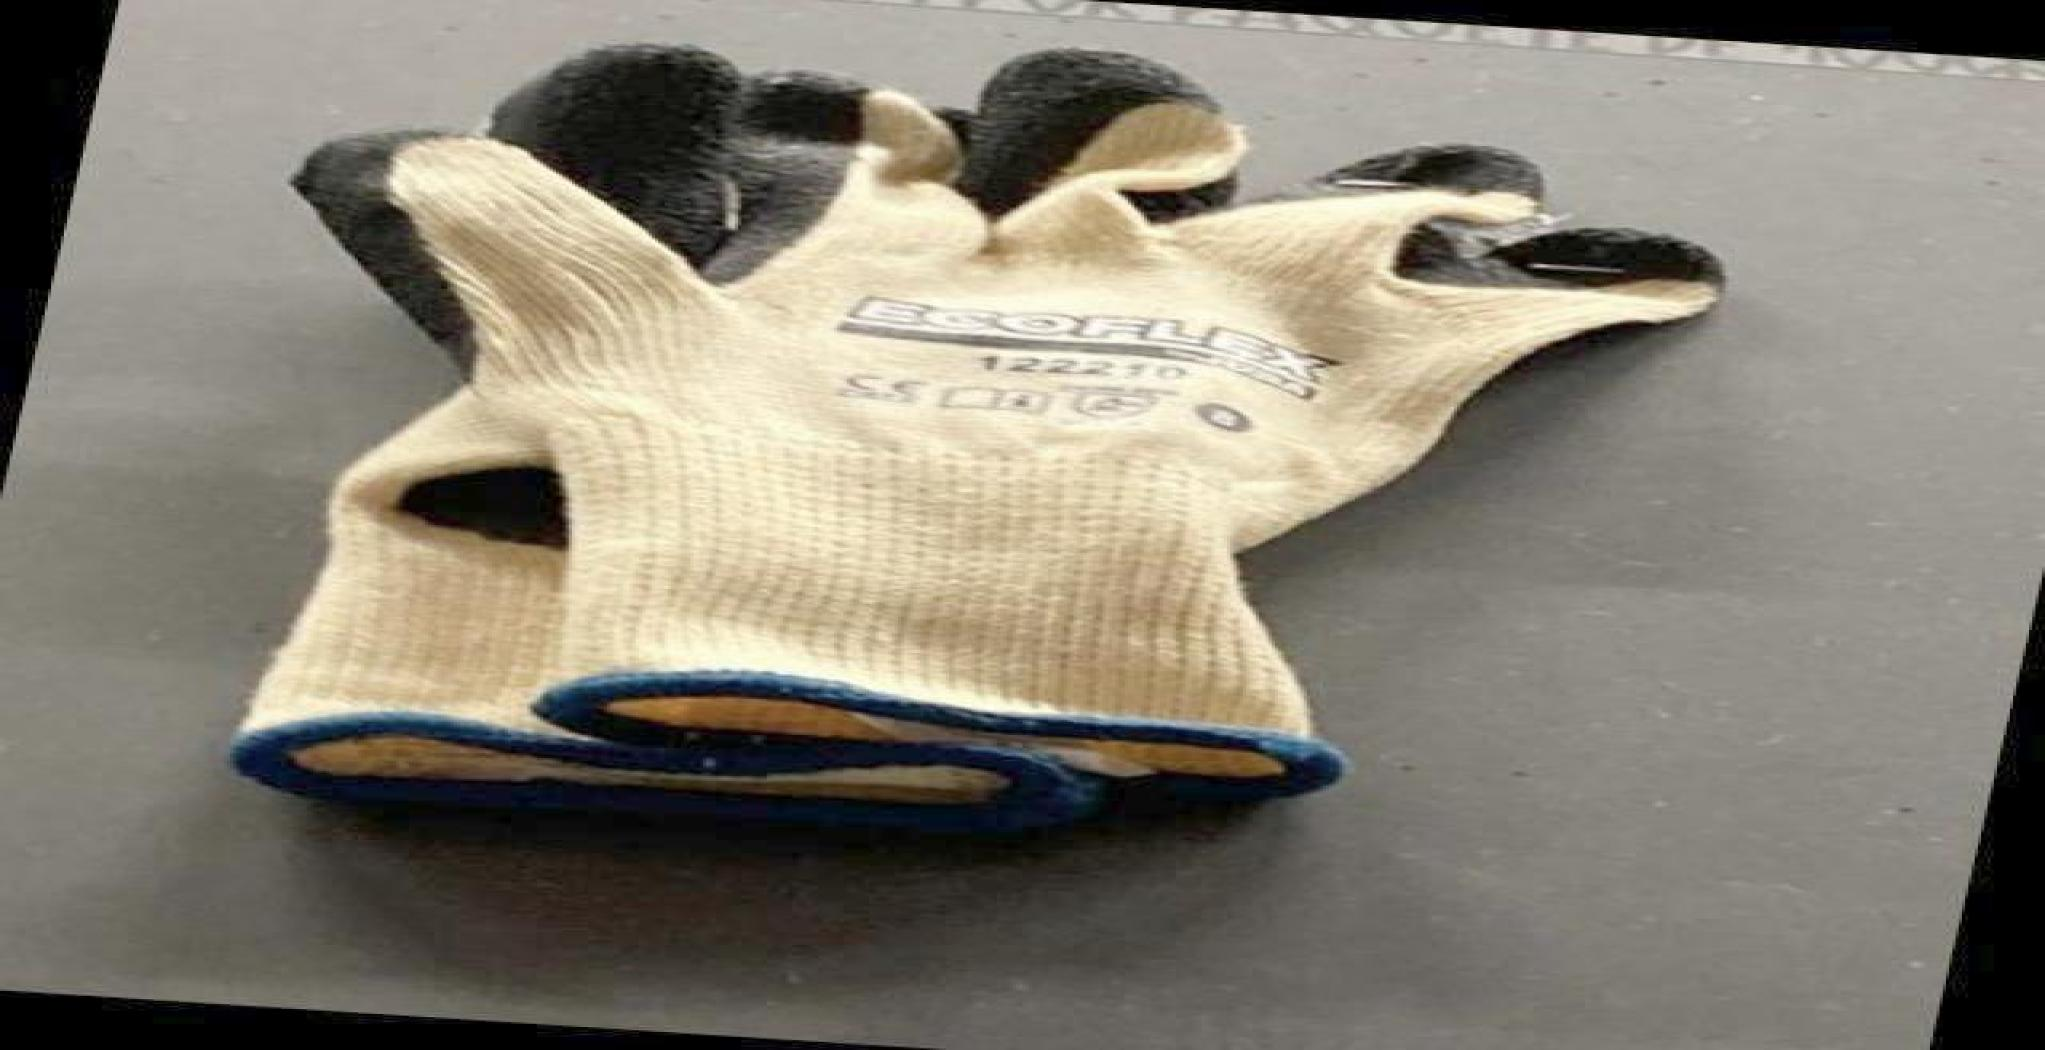gloved: (221, 39, 1725, 837)
